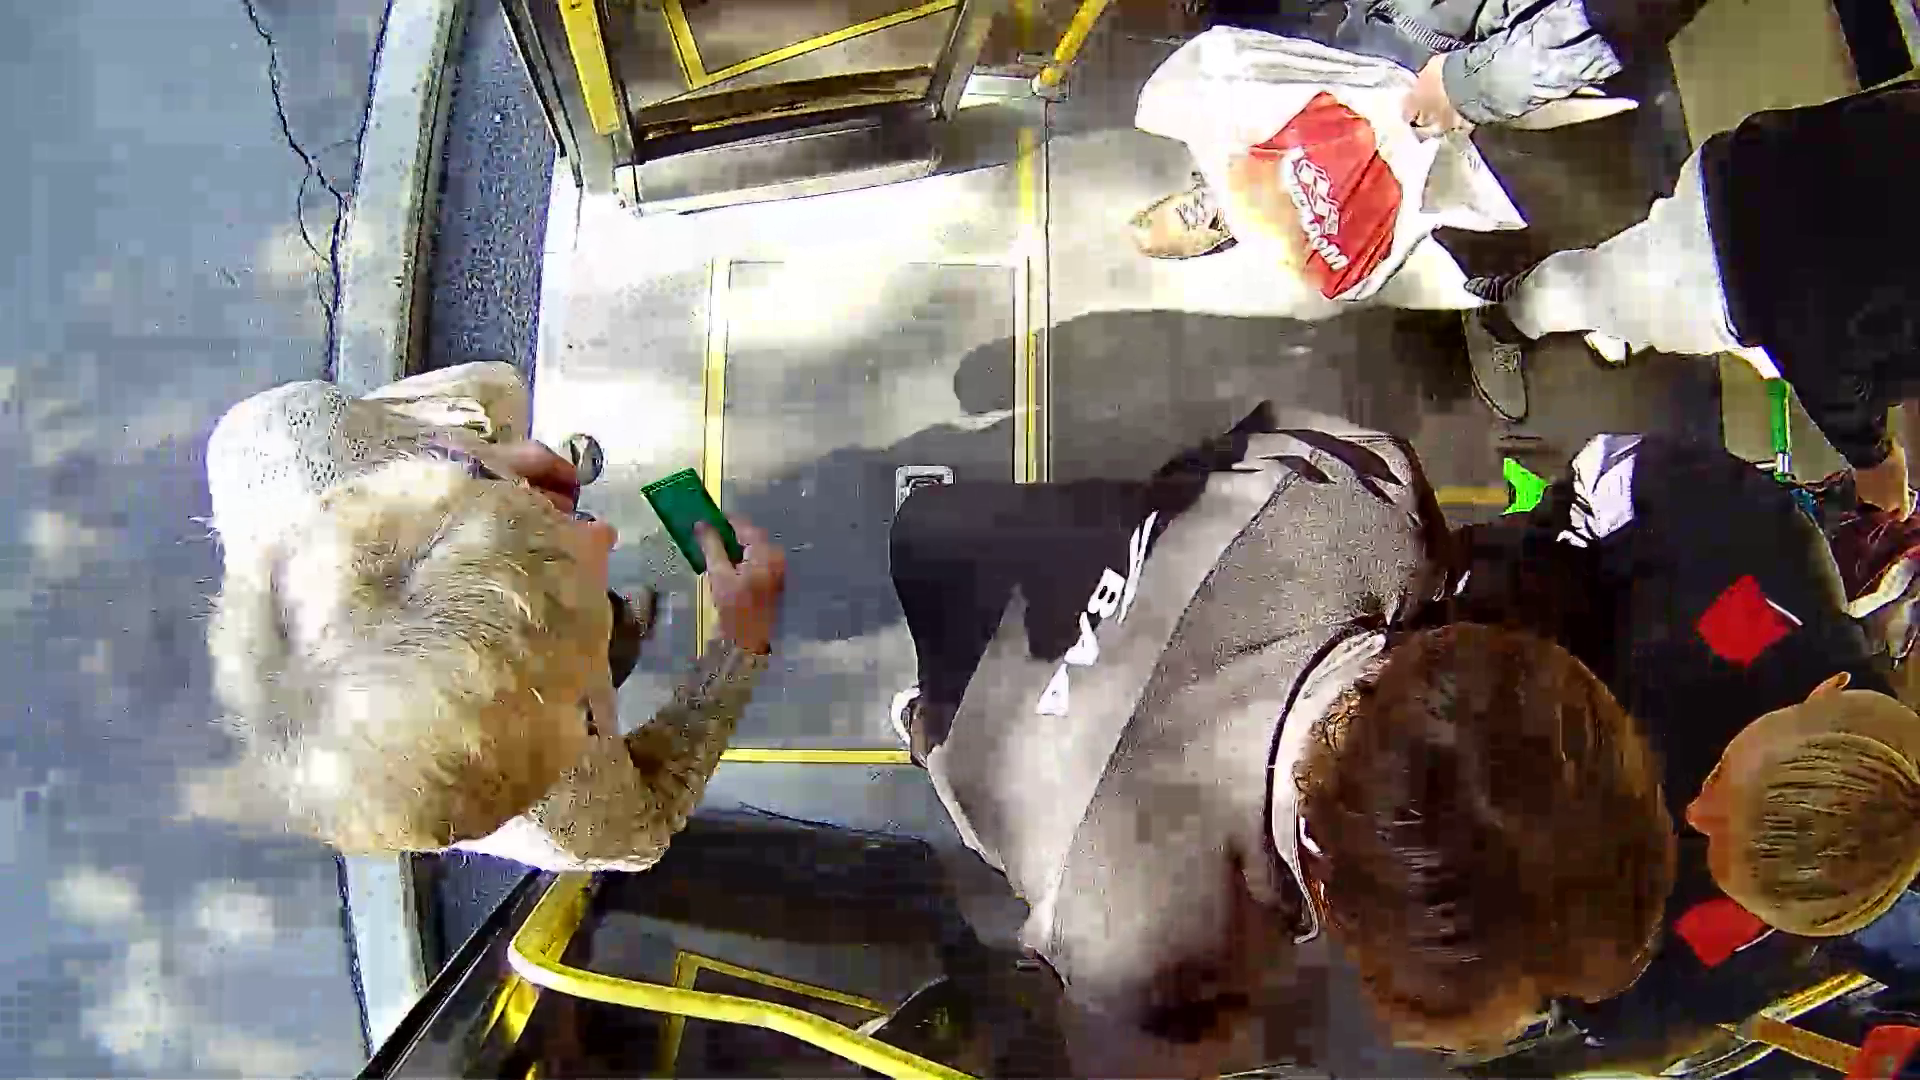person: (834, 436, 1670, 1051), (160, 332, 797, 837)
